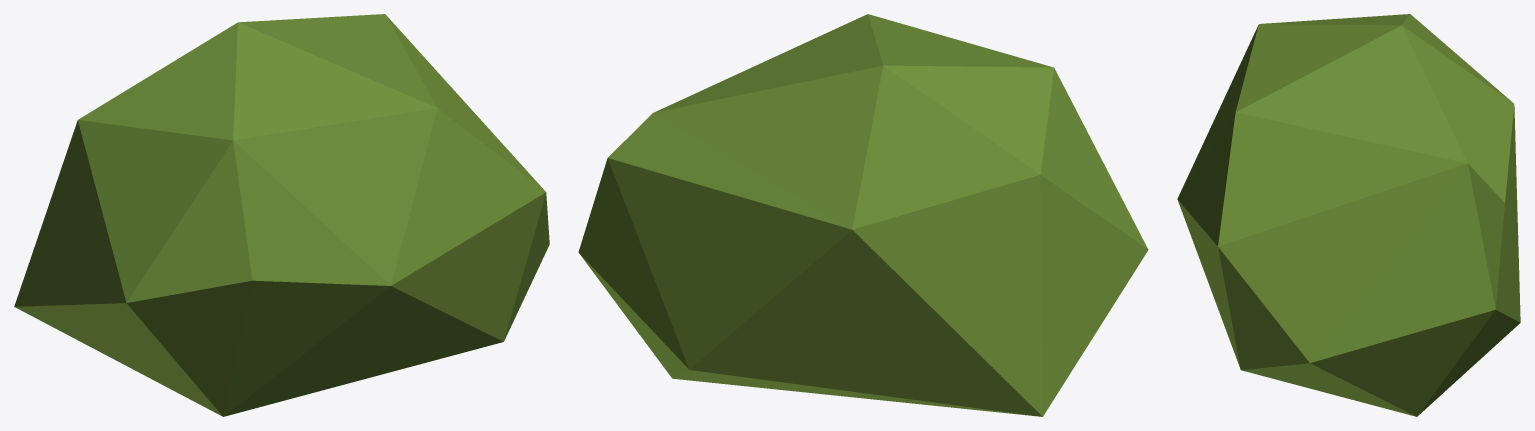
File: Bush_04.fbx
The picture shows the model from 3 angles, left to right: view 1: azimuth 30°, elevation 25°; view 2: azimuth 150°, elevation 25°; view 3: azimuth 270°, elevation 25°; orthographic projection. The views are drawn at different scales.
Visible parts, largest first — view 1: Bush_04; view 2: Bush_04; view 3: Bush_04.
Boxes of the visible parts, left/top/right/bottom form: Bush_04: left=14, top=14, right=549, bottom=416; Bush_04: left=578, top=14, right=1148, bottom=416; Bush_04: left=1177, top=14, right=1520, bottom=416.
Bounding box in the file's own units: 51.95 × 37.68 × 38.25.
